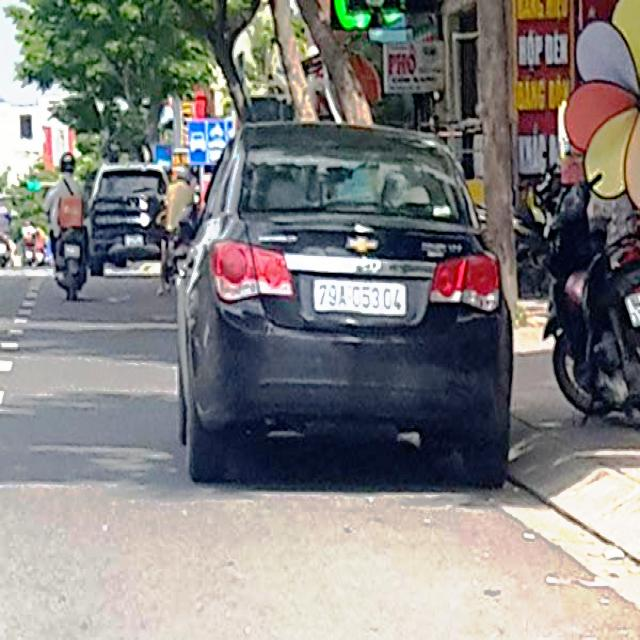license_plate: (312, 280, 410, 315)
